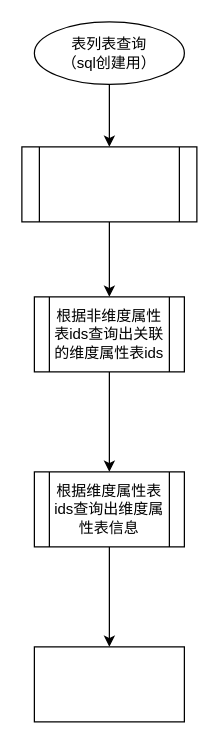
This 219x744 diagram has some shape labels left out. The shapes that lost their labels are listed below. From the top down, each one's box as (x1, y1, x2, y2) in pixels, then its label:
(21, 146, 197, 222): 根据参数实体id查询关联的所有非维度属性表
(33, 646, 184, 722): 封装返回信息
